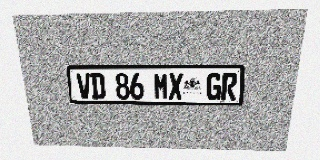6: (129, 73, 144, 99)
8: (115, 73, 130, 99)
D: (90, 73, 106, 99)
G: (206, 73, 222, 100)
M: (154, 73, 168, 100)
R: (221, 73, 238, 100)
V: (76, 73, 92, 99)
X: (169, 73, 183, 100)
